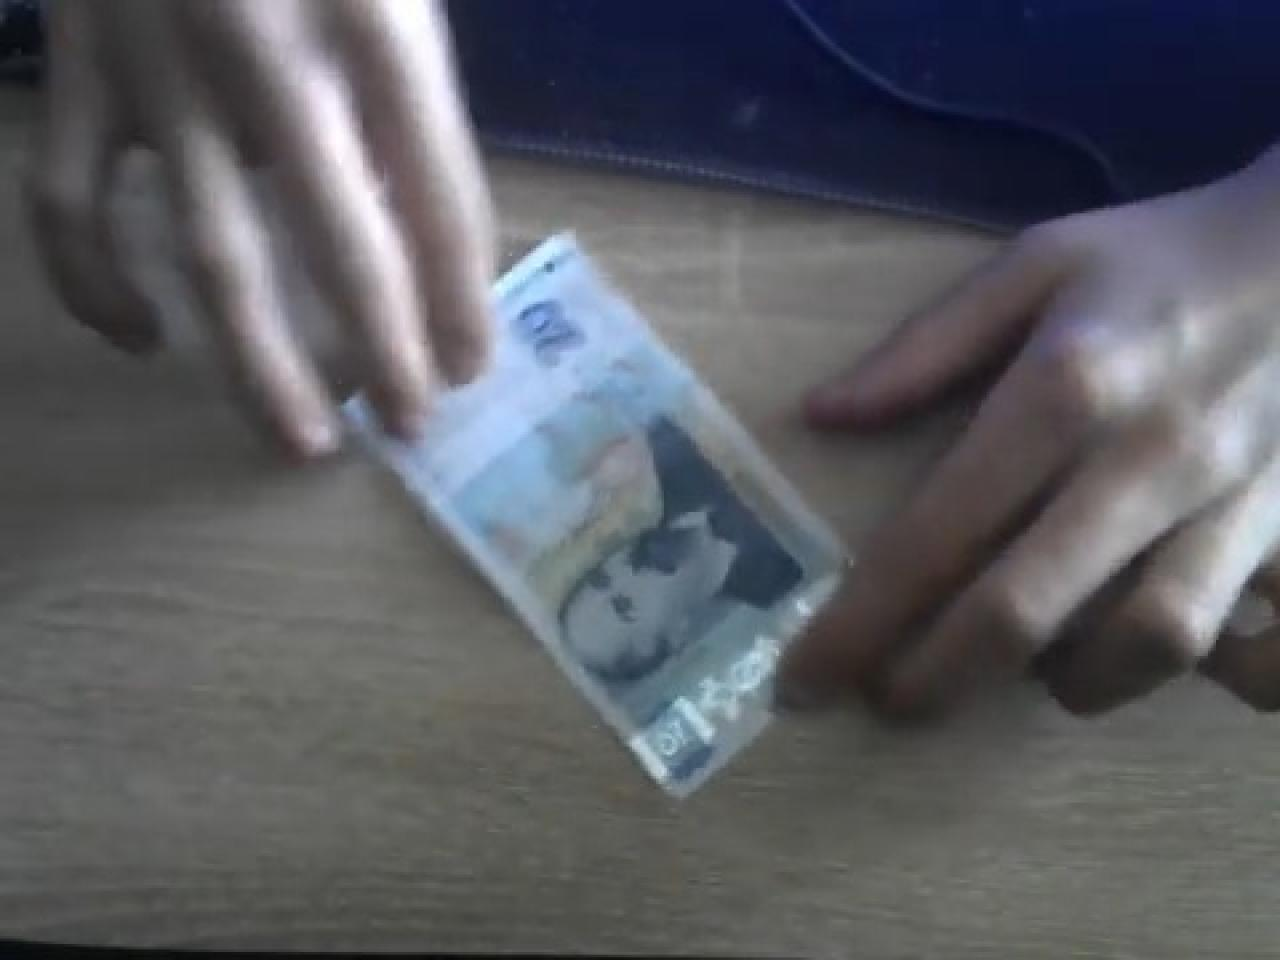20leva: (339, 224, 857, 798)
